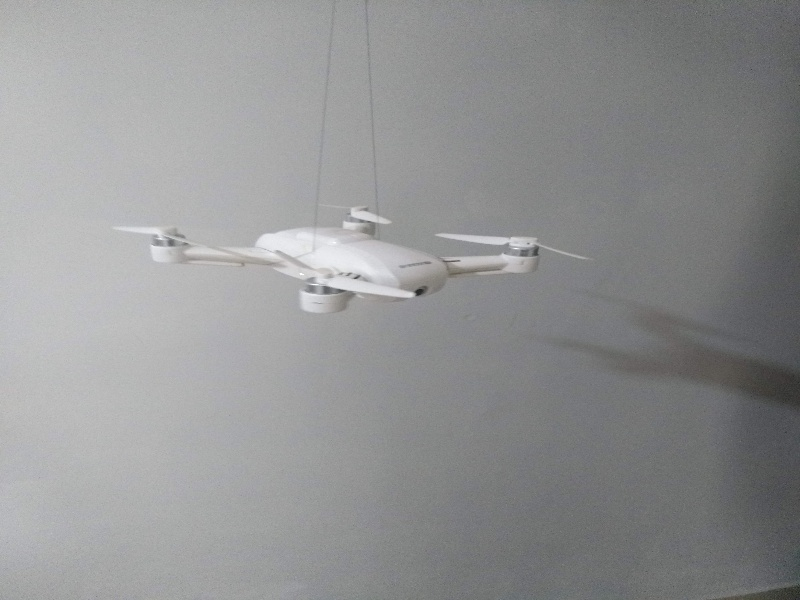drone: (110, 199, 604, 323)
